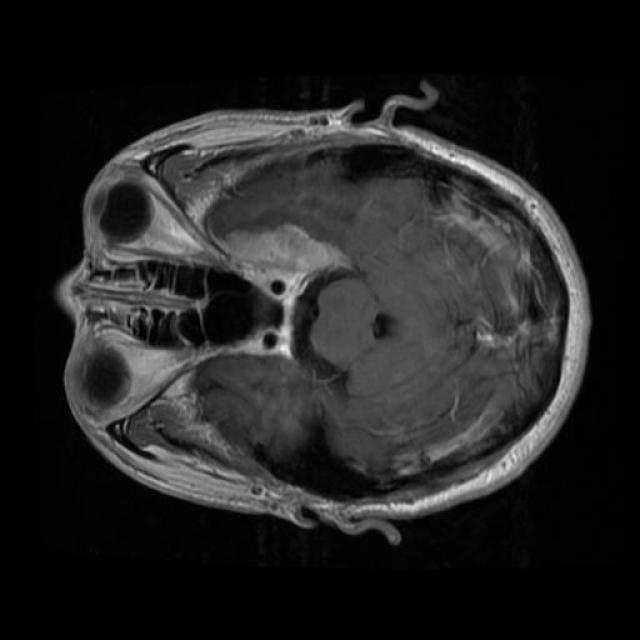Meningioma: (217, 225, 349, 271)
